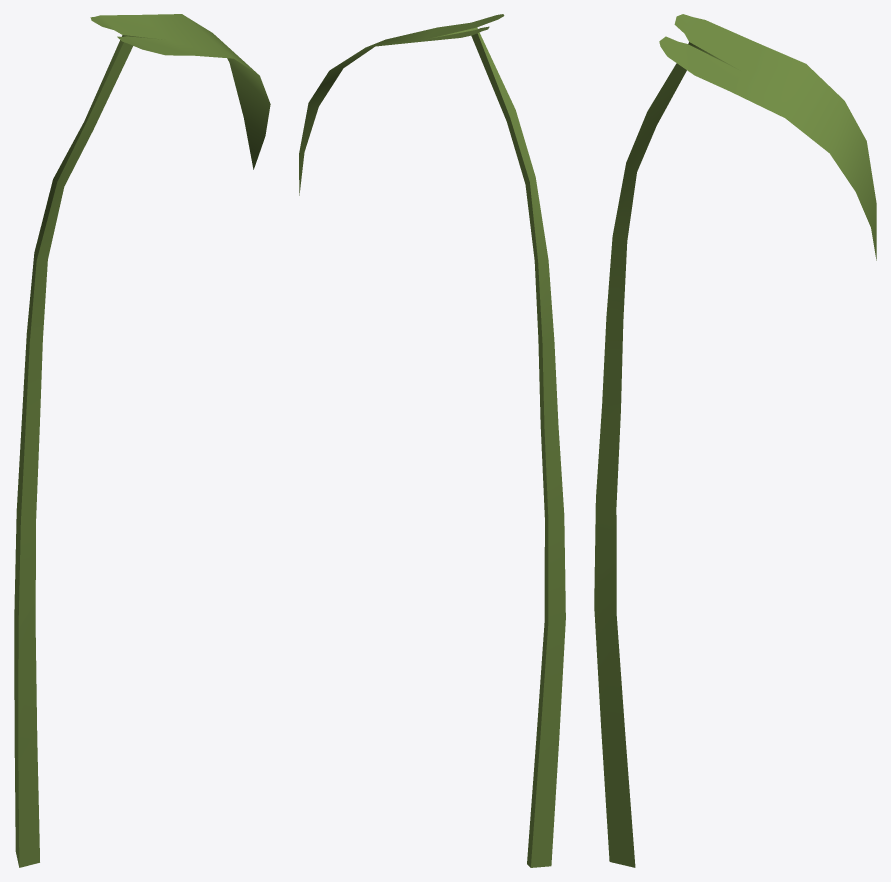
The model's file is plant_water_twig_solo_F.fbx.
3 views of the same model, side by side, from view 1: azimuth 30°, elevation 25°; view 2: azimuth 150°, elevation 25°; view 3: azimuth 330°, elevation 25° (orthographic). The views are drawn at different scales.
Visible parts, largest first — view 1: plant_water_twig_solo_F; view 2: plant_water_twig_solo_F; view 3: plant_water_twig_solo_F.
Part boxes in pixels (x1,y1,x2,y2): plant_water_twig_solo_F: (14, 14, 270, 867); plant_water_twig_solo_F: (299, 14, 565, 867); plant_water_twig_solo_F: (594, 14, 876, 867).
Bounding box in the file's own units: 10.86 × 33.79 × 3.84.
